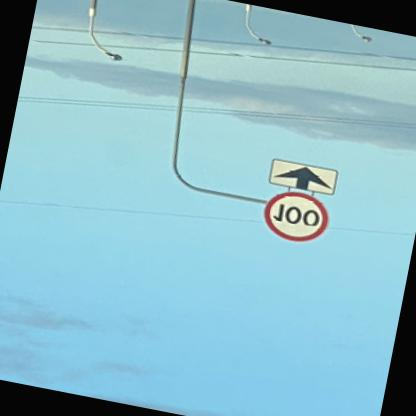speedlimit: (257, 186, 332, 248)
